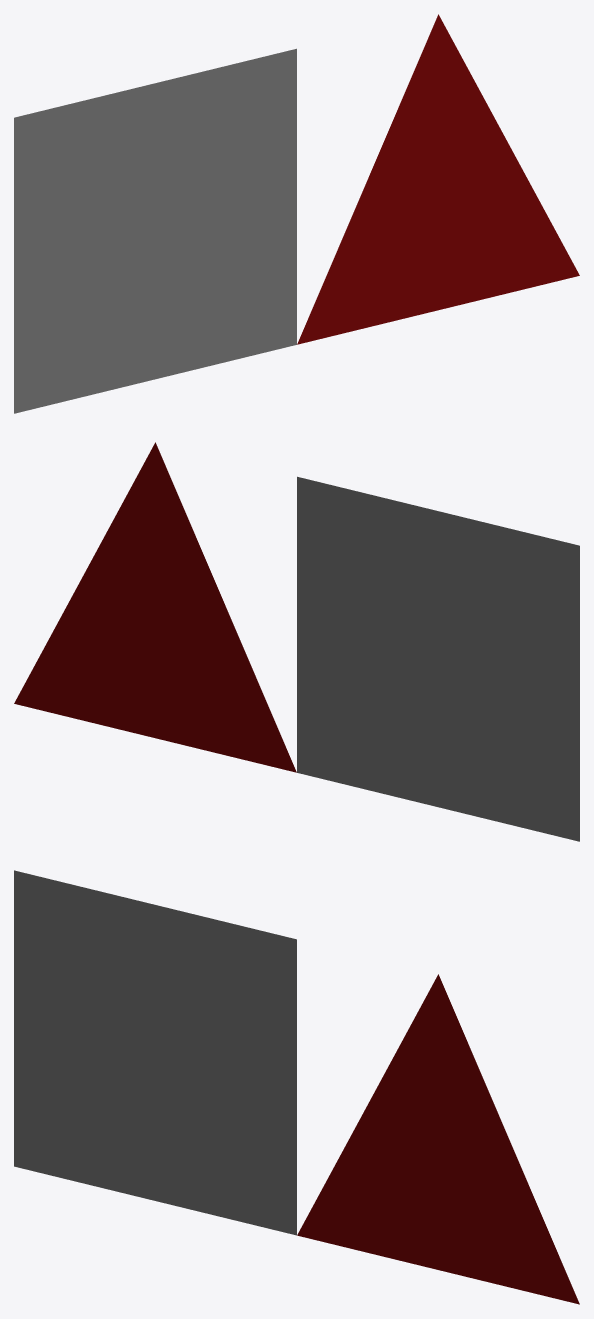
The model's file is library_nodes.dae.
3 renders of one model, top to bottom at view 1: azimuth 30°, elevation 25°; view 2: azimuth 150°, elevation 25°; view 3: azimuth 330°, elevation 25°, orthographic.
Parts seen in each view (by area): view 1: cube_node, triangle_node; view 2: cube_node, triangle_node; view 3: cube_node, triangle_node.
Boxes of the visible parts, <box> form: cube_node: <box>14,48,296,413</box>; triangle_node: <box>297,14,579,344</box>; cube_node: <box>297,476,579,841</box>; triangle_node: <box>14,442,296,772</box>; cube_node: <box>14,870,296,1235</box>; triangle_node: <box>297,974,579,1304</box>.
Bounding box in the file's own units: 200 × 100 × 0.
